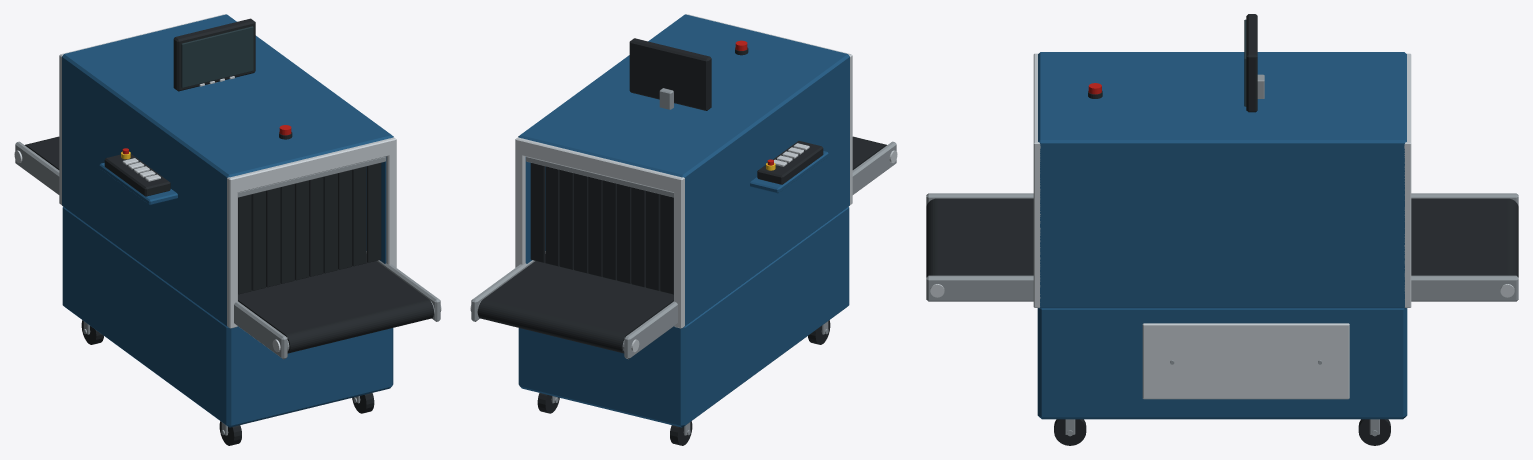
3 views of the same model, side by side, from view 1: azimuth 30°, elevation 25°; view 2: azimuth 150°, elevation 25°; view 3: azimuth 270°, elevation 25° (orthographic). The views are drawn at different scales.
Visible parts, largest first — view 1: Lower equipment cabinet, Tunnel roof, Tunnel side wall -1, Continuous conveyor belt, Monitor blank glass, Portal top -1, Conveyor side rail -1, Portal upright -1_-1, Curtain strip -1_8, Curtain strip -1_2, Curtain strip -1_5, Curtain strip -1_4 (+14 smaller); view 2: Lower equipment cabinet, Tunnel roof, Tunnel side wall -1, Continuous conveyor belt, Monitor case, Portal top 1, Conveyor side rail -1, Portal upright -1_1, Curtain strip 1_8, Curtain strip 1_2, Curtain strip 1_5, Curtain strip 1_4 (+13 smaller); view 3: Tunnel side wall 1, Tunnel roof, Lower equipment cabinet, Continuous conveyor belt, Rear service panel, Conveyor side rail 1, Conveyor side rail -1, Portal upright 1_-1, Monitor case, Portal upright 1_1, Caster wheel 1_-1, Caster wheel 1_1.
Part boxes in pixels (left/top/right/bottom): Lower equipment cabinet: left=62, top=207, right=393, bottom=427; Tunnel roof: left=62, top=14, right=393, bottom=185; Tunnel side wall -1: left=62, top=61, right=228, bottom=327; Continuous conveyor belt: left=25, top=136, right=433, bottom=353; Monitor blank glass: left=181, top=26, right=253, bottom=87; Portal top -1: left=227, top=137, right=396, bottom=193; Conveyor side rail -1: left=15, top=141, right=287, bottom=359; Portal upright -1_-1: left=227, top=180, right=237, bottom=328; Curtain strip -1_8: left=352, top=166, right=366, bottom=266; Curtain strip -1_2: left=266, top=187, right=280, bottom=287; Curtain strip -1_5: left=309, top=177, right=323, bottom=276; Curtain strip -1_4: left=295, top=180, right=309, bottom=280; Lower equipment cabinet: left=518, top=207, right=849, bottom=427; Tunnel roof: left=518, top=14, right=849, bottom=182; Tunnel side wall -1: left=683, top=61, right=849, bottom=327; Continuous conveyor belt: left=478, top=136, right=886, bottom=353; Monitor case: left=629, top=38, right=711, bottom=110; Portal top 1: left=515, top=137, right=684, bottom=193; Conveyor side rail -1: left=624, top=141, right=896, bottom=359; Portal upright -1_1: left=674, top=180, right=684, bottom=328; Curtain strip 1_8: left=545, top=166, right=559, bottom=266; Curtain strip 1_2: left=631, top=187, right=645, bottom=287; Curtain strip 1_5: left=588, top=177, right=602, bottom=276; Curtain strip 1_4: left=602, top=180, right=616, bottom=280; Tunnel side wall 1: left=1039, top=148, right=1405, bottom=308; Tunnel roof: left=1038, top=52, right=1406, bottom=154; Lower equipment cabinet: left=1037, top=308, right=1407, bottom=419; Continuous conveyor belt: left=926, top=198, right=1518, bottom=277; Rear service panel: left=1142, top=323, right=1349, bottom=399; Conveyor side rail 1: left=926, top=275, right=1518, bottom=301; Conveyor side rail -1: left=926, top=193, right=1518, bottom=205; Portal upright 1_-1: left=1033, top=146, right=1040, bottom=307; Monitor case: left=1246, top=14, right=1257, bottom=112; Portal upright 1_1: left=1404, top=146, right=1411, bottom=307; Caster wheel 1_-1: left=1054, top=419, right=1086, bottom=445; Caster wheel 1_1: left=1358, top=419, right=1390, bottom=445.
Size of the model in its own units: 0.859 by 1.39 by 2.
